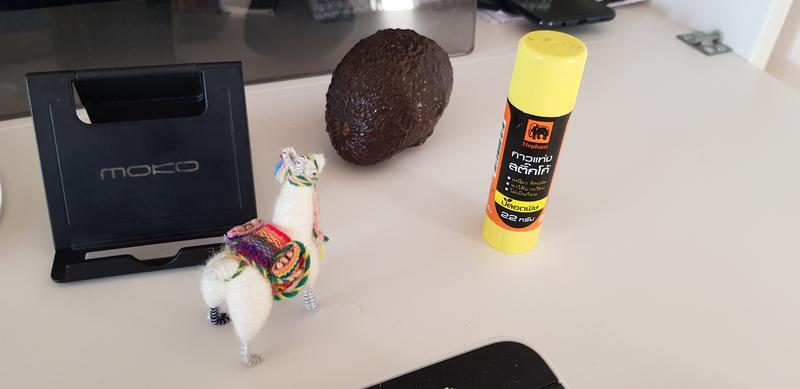Avocado: (324, 26, 456, 173)
Glue-Stick: (476, 27, 589, 262)
Horse-Toy: (194, 148, 334, 374)
